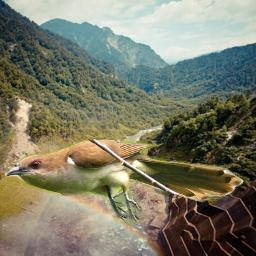Cuckoo: (5, 139, 245, 223)
